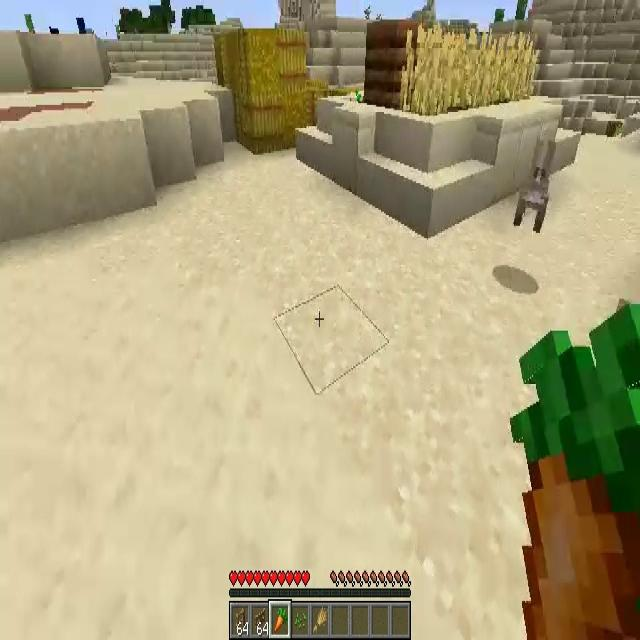rabbit: (514, 138, 556, 233)
